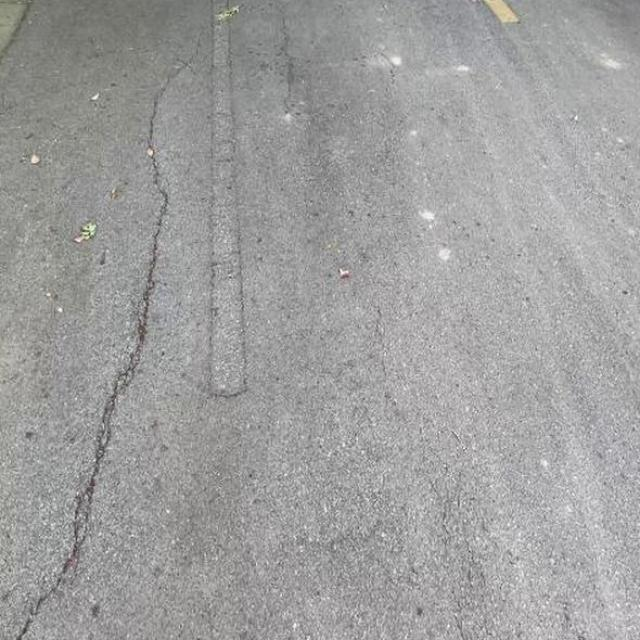Memanjang: (2, 30, 225, 640)
